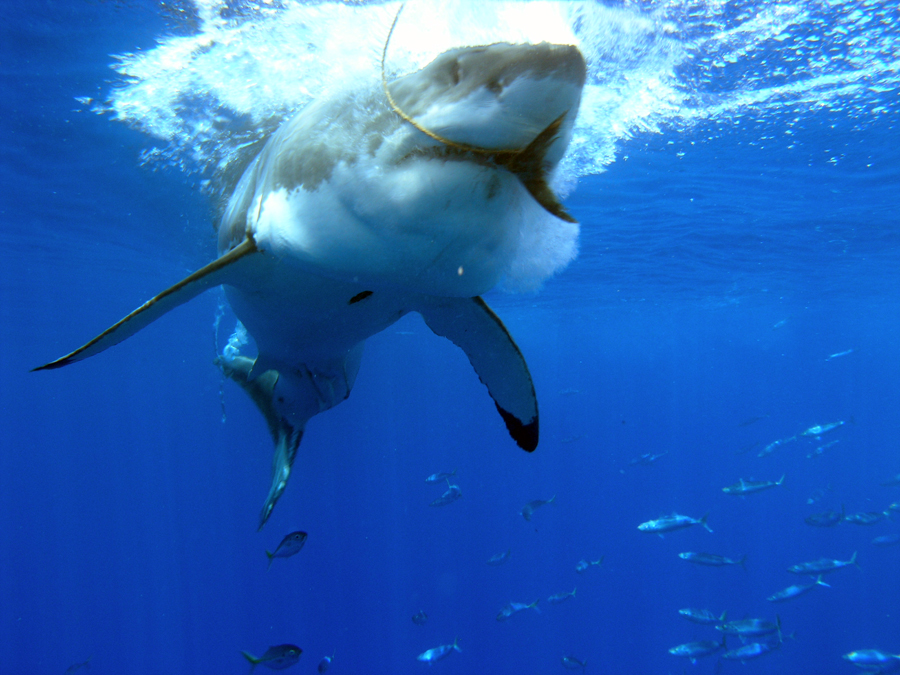Carcharodon_carcharias: (59, 30, 651, 548)
